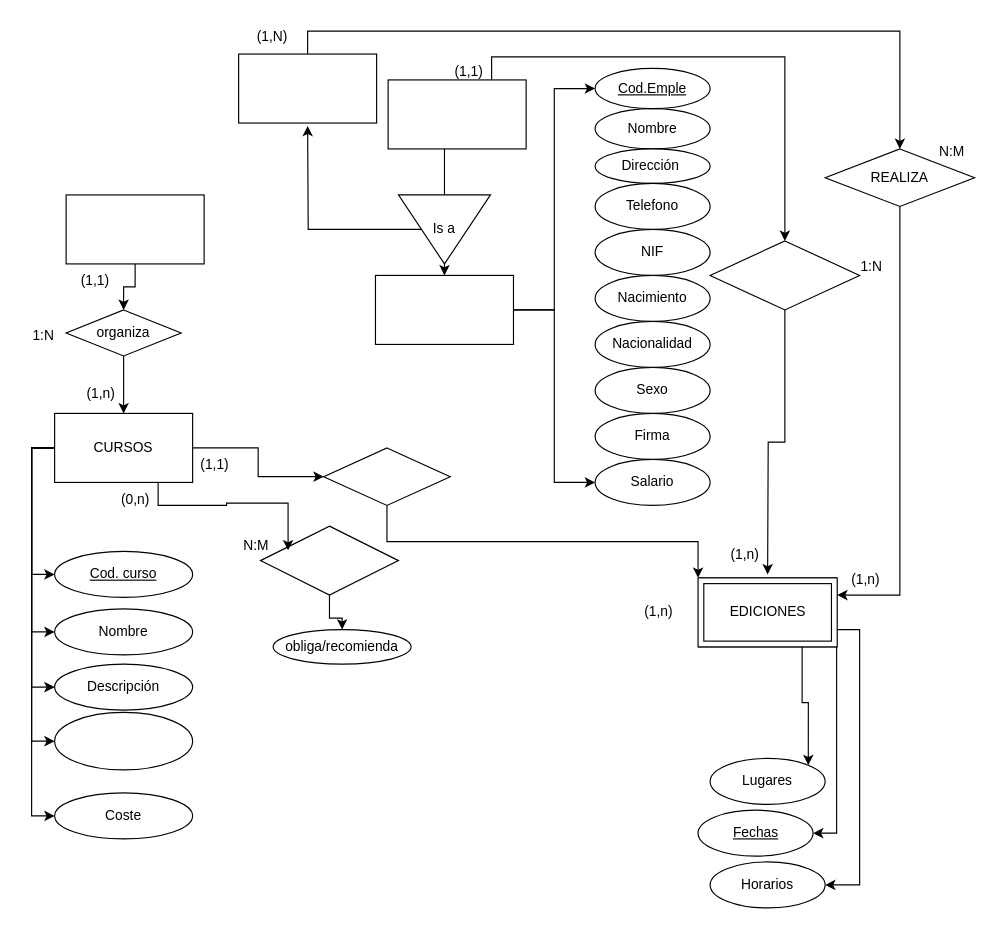
Image size: 999x928. Some labels were removed from this diagram. The shapes that lost their labels are listed below. From the top down, each one's centre as x and y in pixels, then its label:
[307,88]: ALUMNO
[456,114]: DOCENTE
[134,229]: EMPRESA
[784,275]: IMPARTE
[443,309]: EMPLEADO
[386,476]: tiene
[328,560]: es prerequisito
[123,740]: Nº Horas
